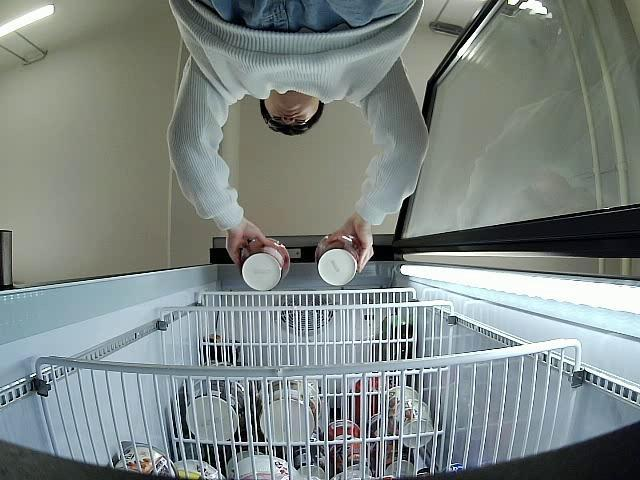01_ShinRamen_L: (240, 237, 292, 294), (314, 232, 362, 286)
